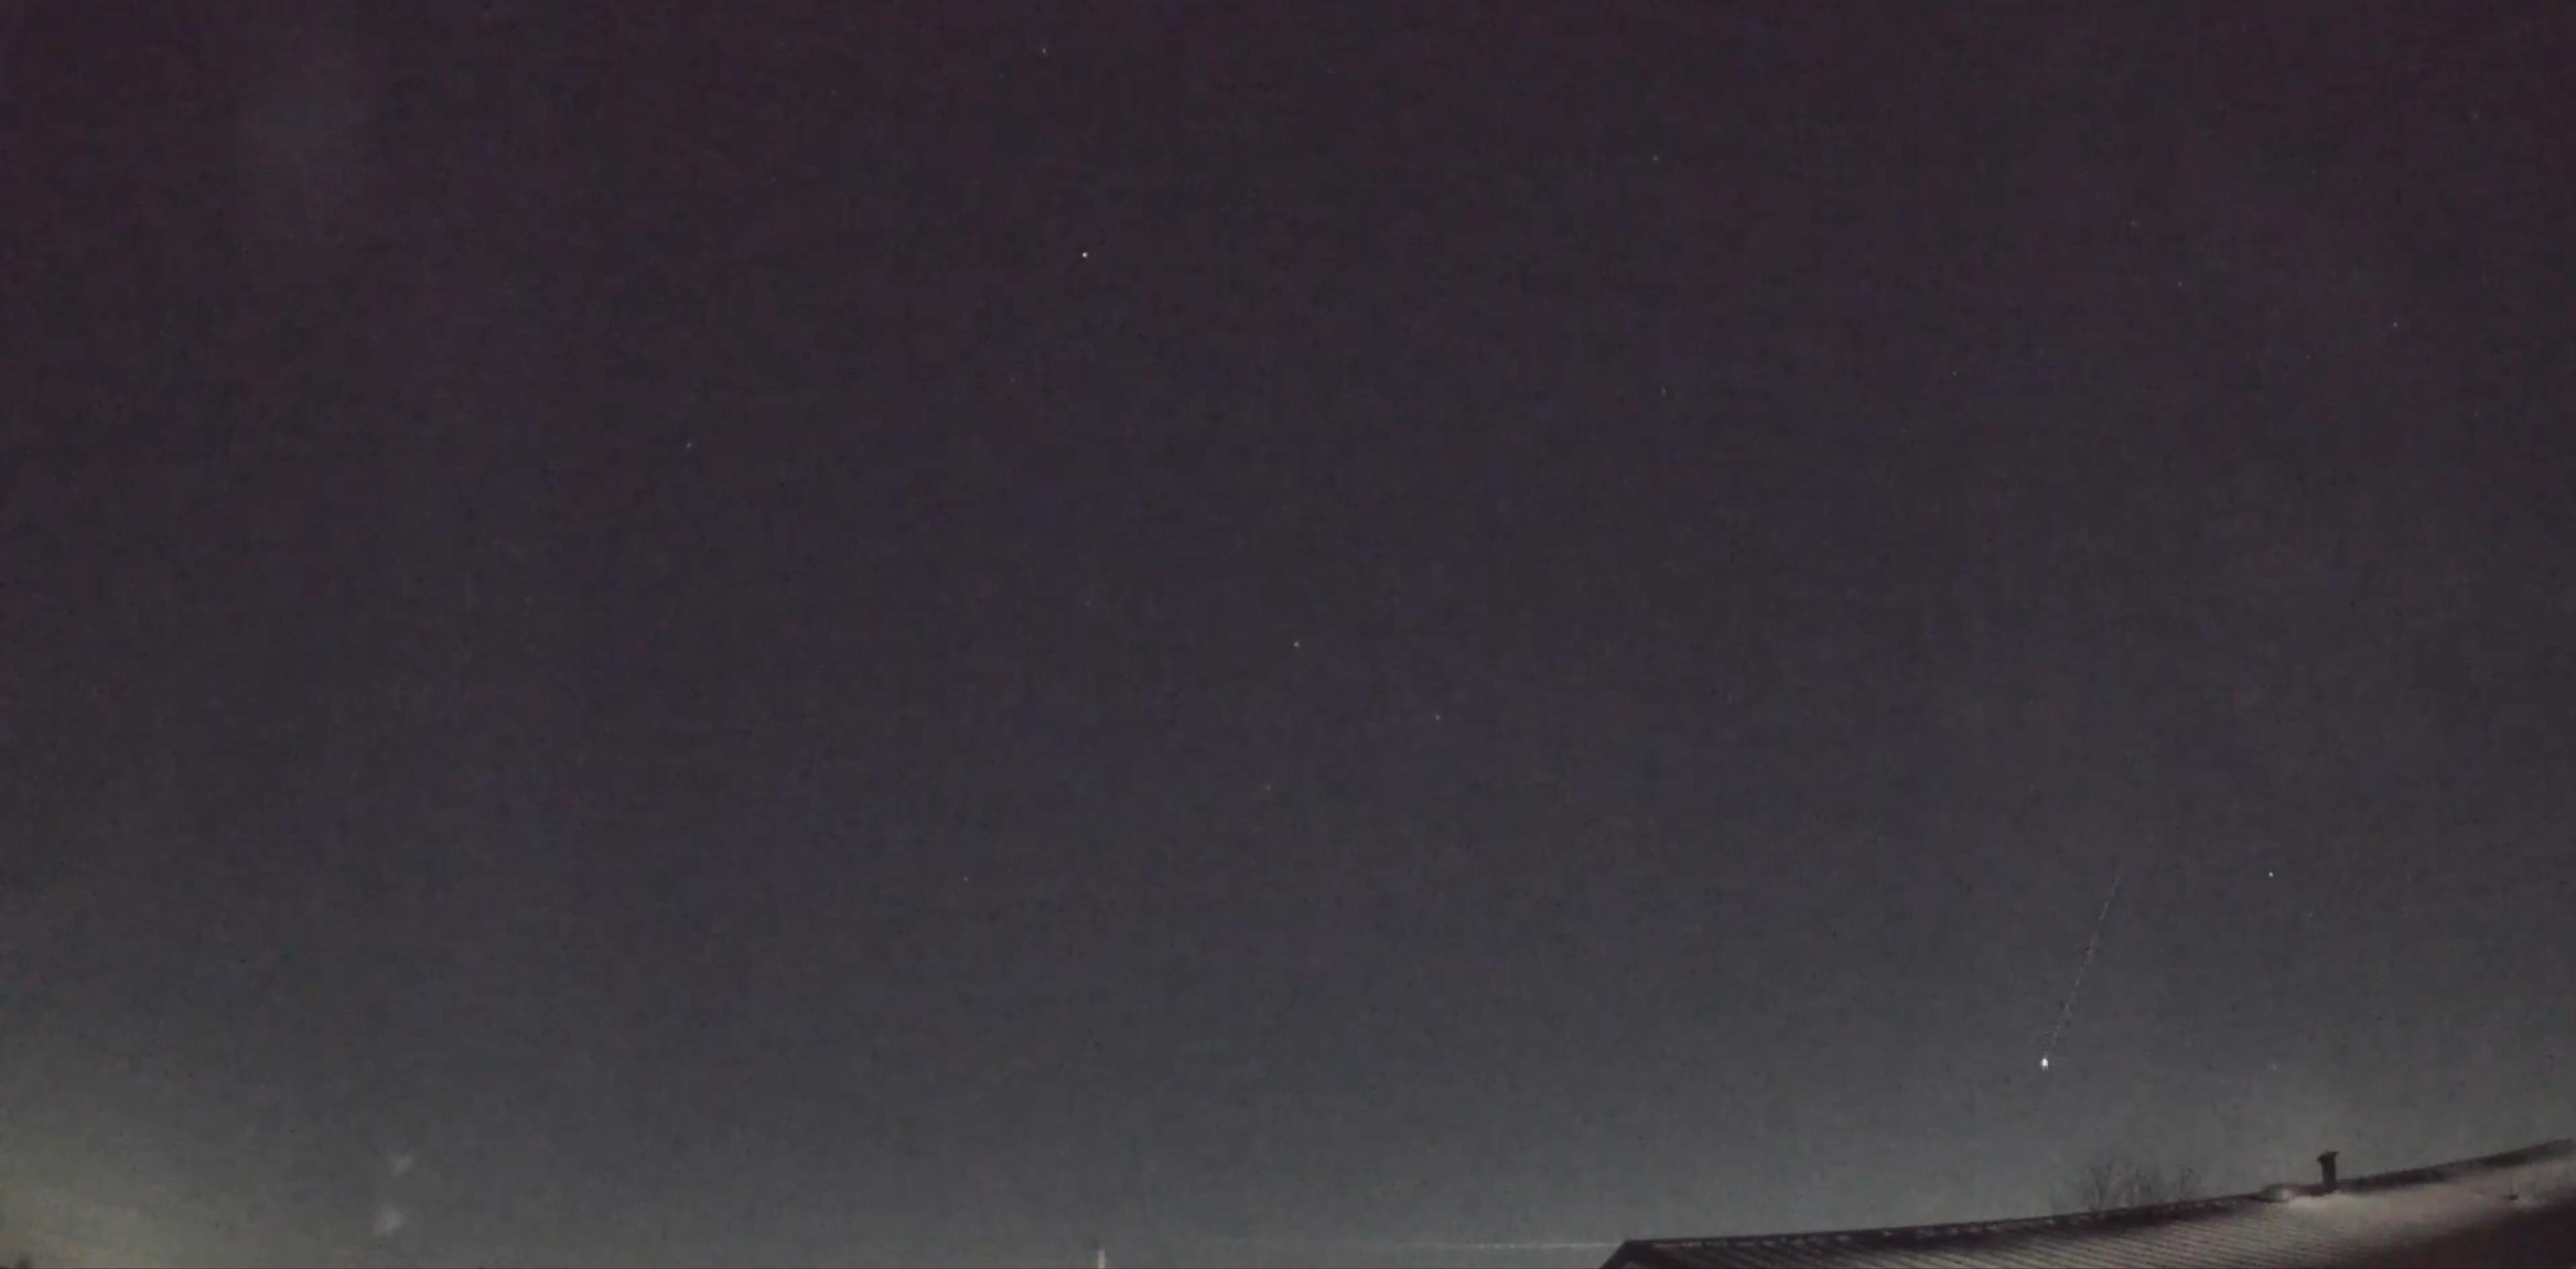meteorite: (2017, 836, 2144, 1080)
